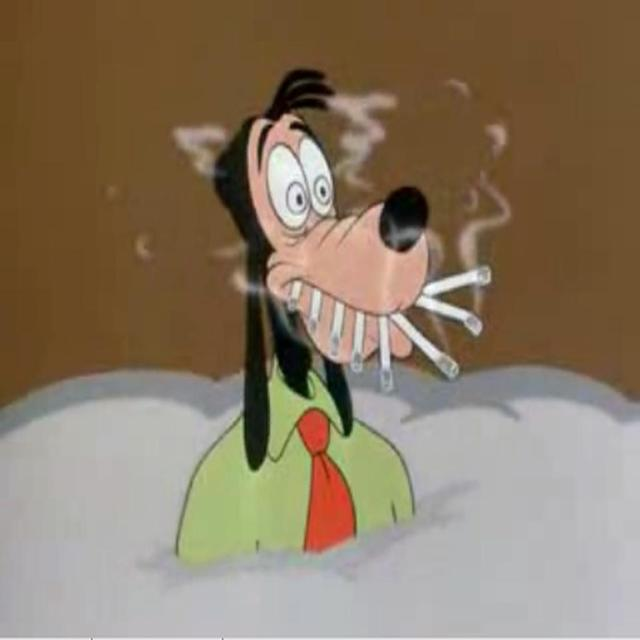smoking: (229, 64, 500, 399)
